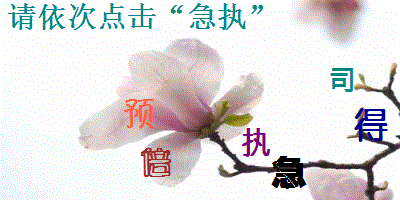text: (354, 107, 388, 145), (270, 155, 306, 189), (123, 97, 157, 131), (139, 147, 172, 178), (240, 126, 271, 159), (329, 66, 355, 94)
